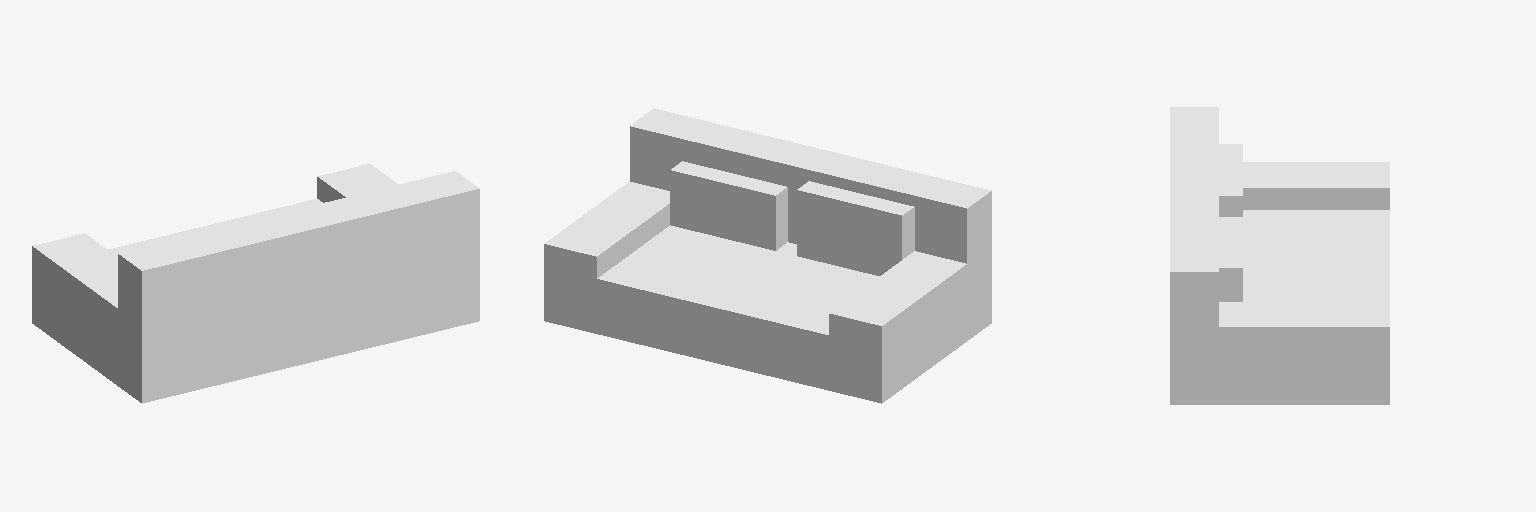
File: Sofa.obj
3 views of the same model, side by side, from view 1: azimuth 30°, elevation 25°; view 2: azimuth 150°, elevation 25°; view 3: azimuth 270°, elevation 25° (orthographic).
Parts seen in each view (by area): view 1: object 1; view 2: object 1; view 3: object 1.
Boxes of the visible parts, x1,y1,x2,y2 form: object 1: [32, 164, 479, 403]; object 1: [544, 108, 991, 403]; object 1: [1170, 107, 1389, 404].
Size of the model in its own units: 3.2 by 1.2 by 1.8.